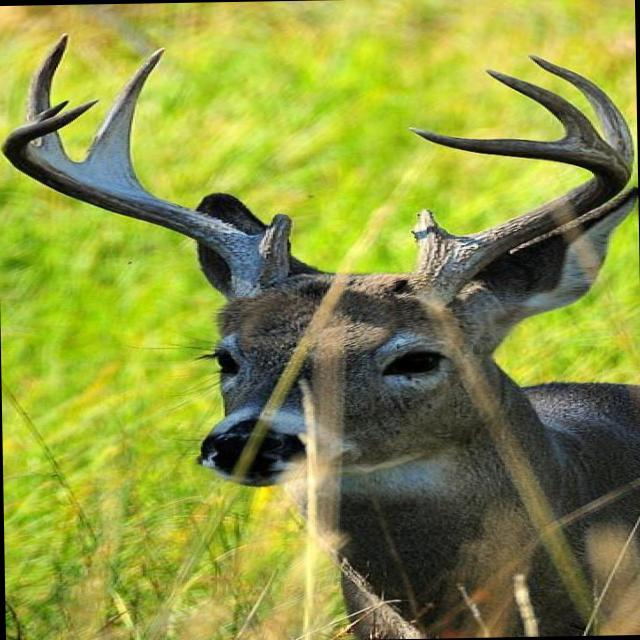L-F: (394, 126, 631, 310)
L-G1: (408, 208, 456, 253)
L-G3: (484, 69, 610, 147)
R-F: (0, 98, 288, 303)
R-G1: (258, 213, 293, 259)
R-G2: (81, 46, 166, 182)
